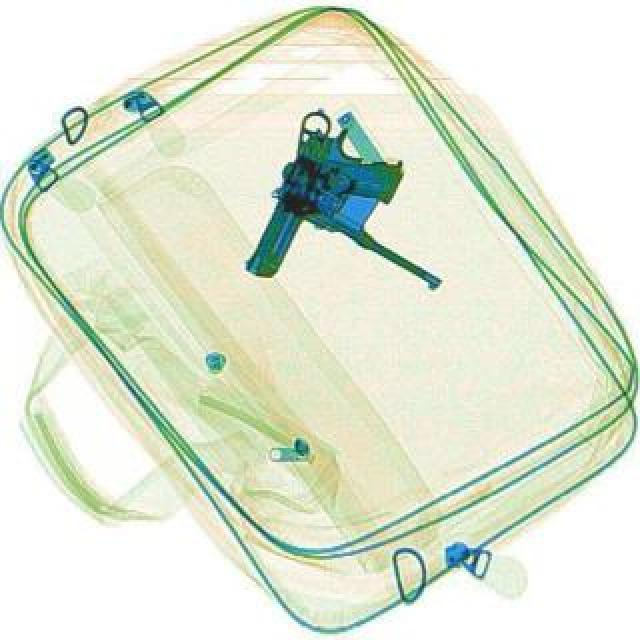gun: (252, 110, 490, 298), (240, 120, 408, 312)
